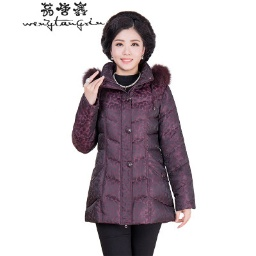face: (98, 12, 157, 73)
